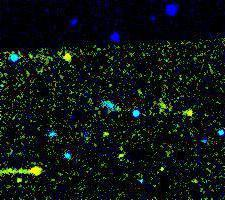star: (51, 42, 81, 72)
